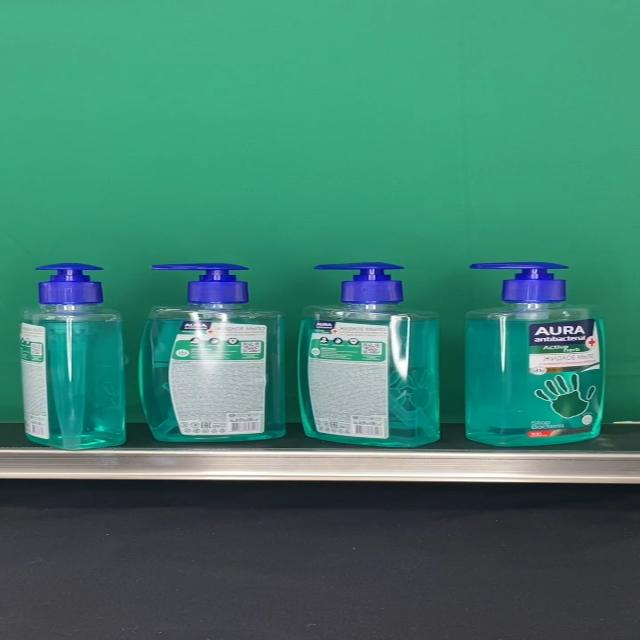Bottle: (298, 263, 441, 447), (140, 264, 286, 442), (465, 262, 606, 446), (19, 263, 126, 449)
Cap: (469, 262, 569, 304), (153, 263, 249, 305), (313, 262, 405, 304), (34, 263, 104, 304)
